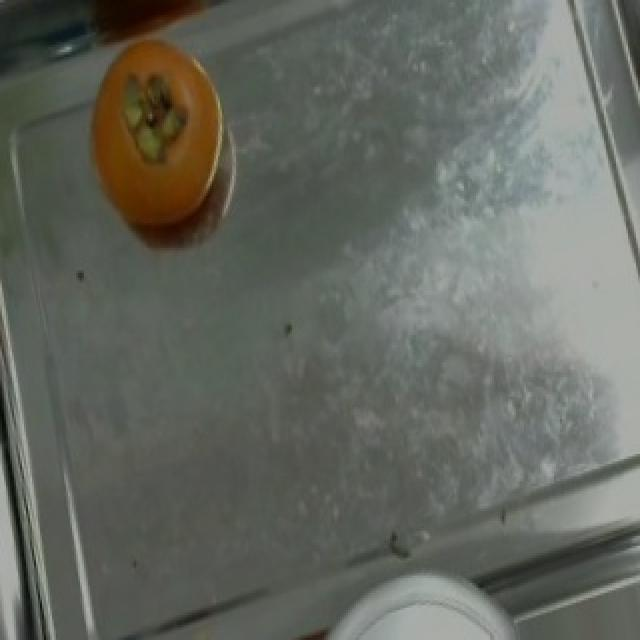Fruit: (64, 20, 248, 255), (326, 590, 532, 640)
